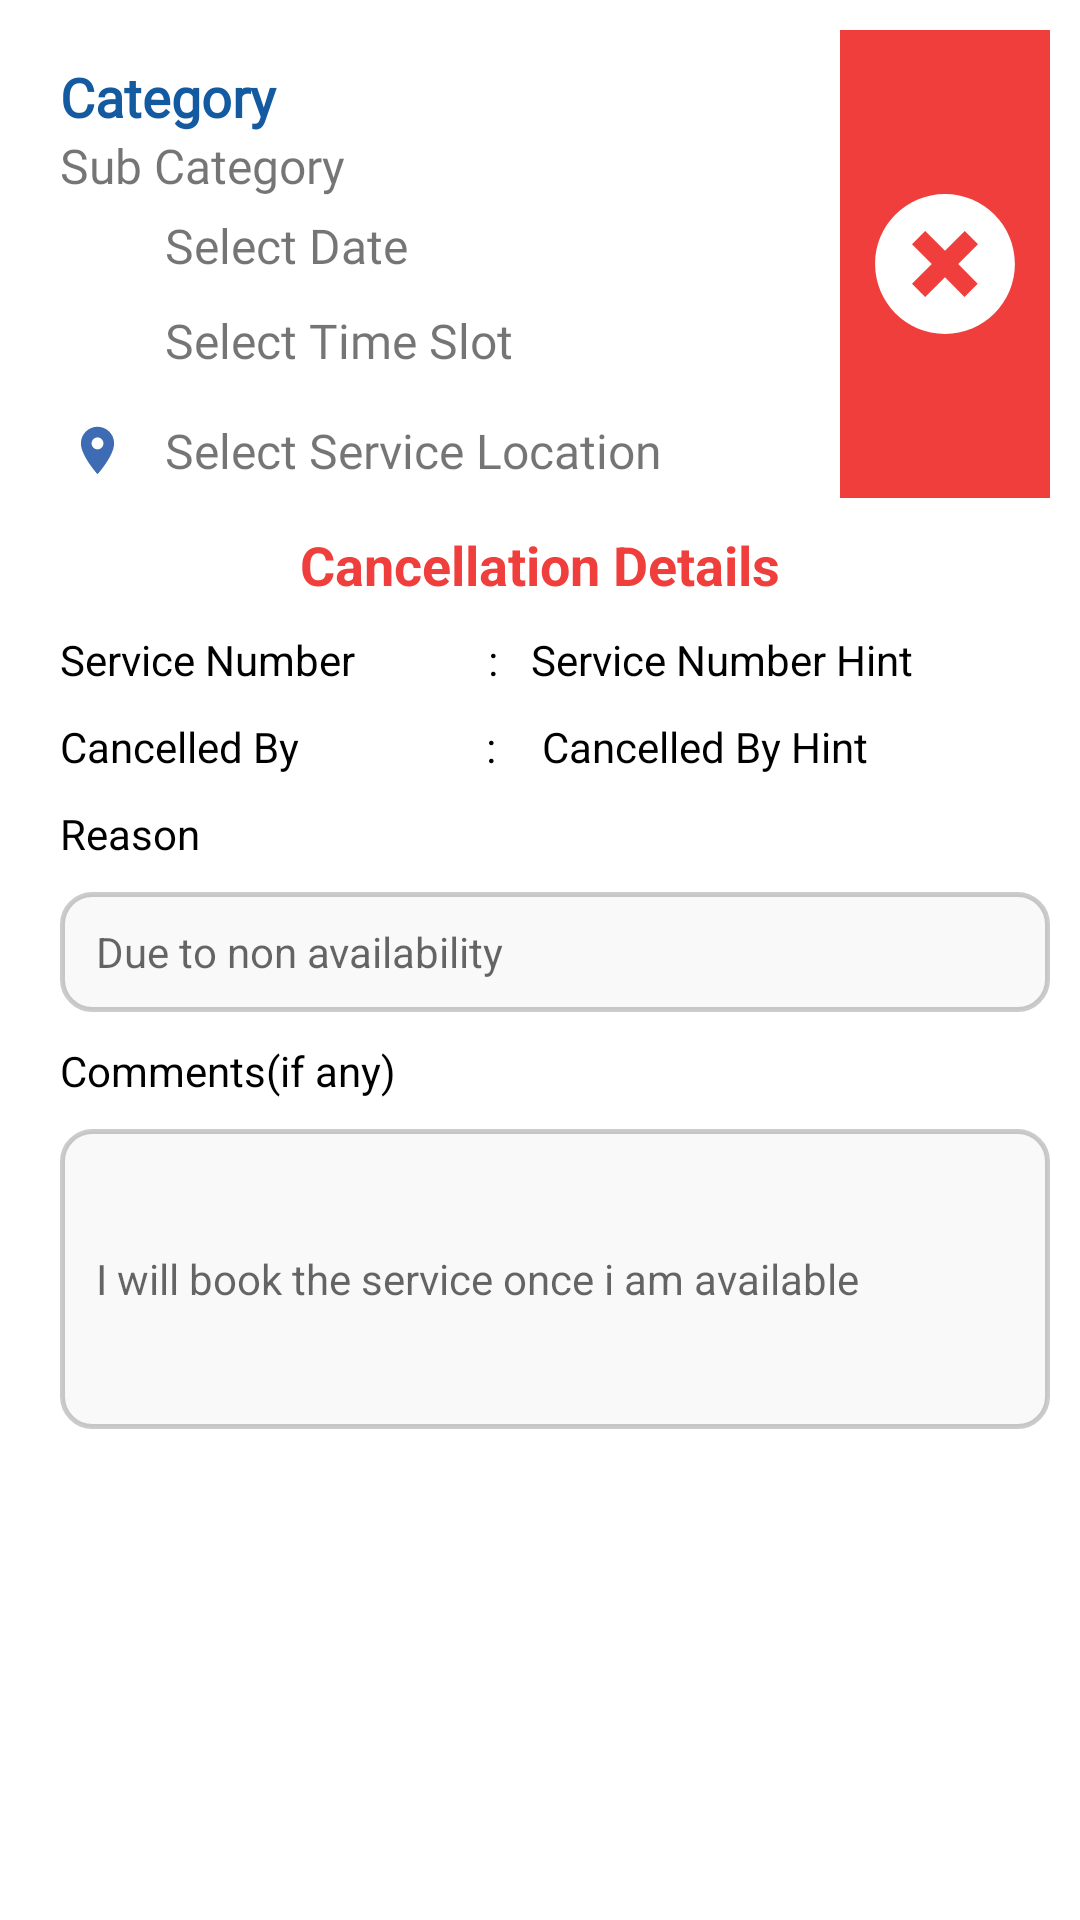

Named icons in this screenshot (1080w x 1920h) and their centers, [x,y]:
location on: [97,450]
